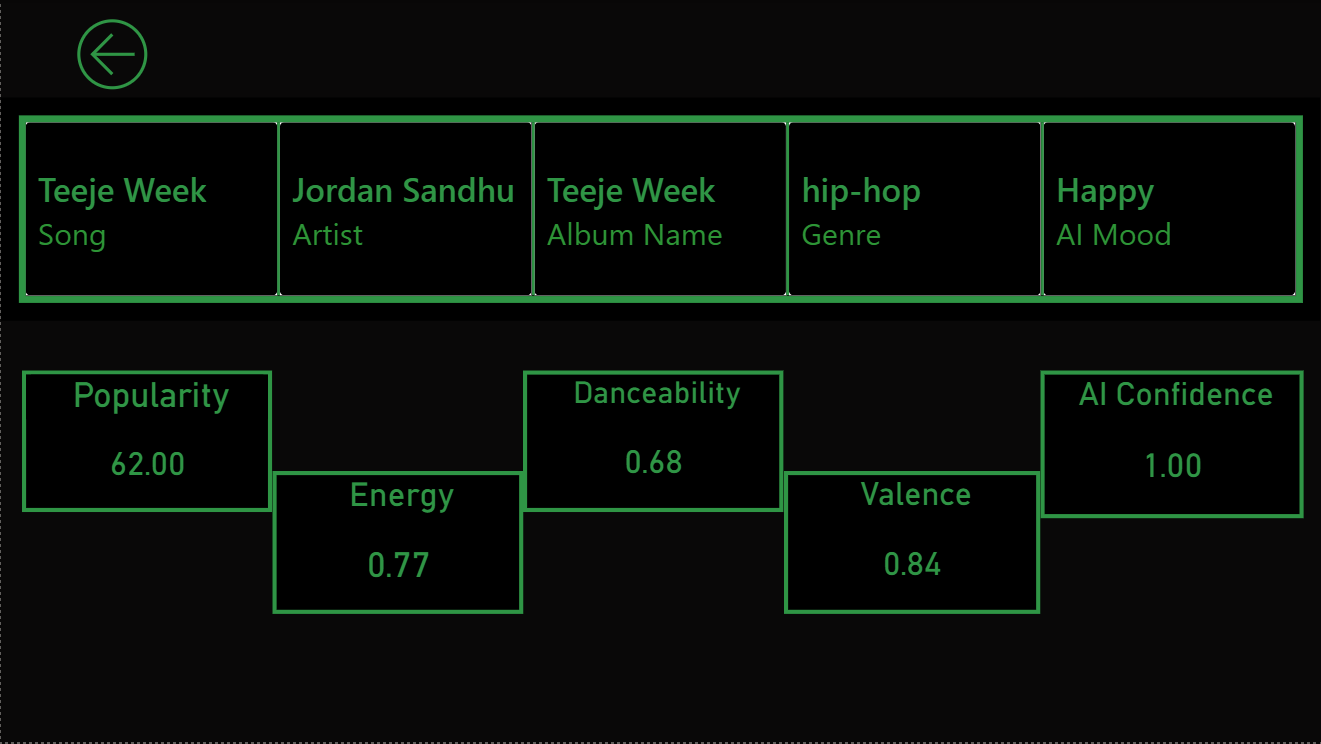

The dashboard page shown, as its layout file describes it:
{"tool":"powerbi","page":{"name":"Song Details","canvas":[1280,720],"ordinal":4},"visuals":[{"type":"cardVisual","fields":{"Data":["Min(spotify_mood_prediction.track_name)","Min(spotify_mood_prediction.artists)","Min(spotify_mood_prediction.album_name)","Min(spotify_mood_prediction.track_genre)","Min(spotify_mood_prediction.predicted_mood)"]},"box":[0,95,1280,216.7],"z":1000},{"type":"card","title":"Popularity","fields":{"Values":["Avg(spotify_mood_prediction.popularity)"]},"box":[21,359.5,242.9,137.6],"z":2000},{"type":"card","title":"Energy","fields":{"Values":["Avg(spotify_mood_prediction.energy)"]},"box":[263.3,456.7,243.3,138.3],"z":3000},{"type":"card","title":"Danceability","fields":{"Values":["Avg(spotify_mood_prediction.danceability)"]},"box":[506.8,359.5,252.6,137.6],"z":4000},{"type":"card","title":"Valence","fields":{"Values":["Avg(spotify_mood_prediction.valence)"]},"box":[760,456.7,248.3,138.3],"z":5000},{"type":"card","title":"AI Confidence","fields":{"Values":["Avg(spotify_mood_prediction.prediction_confidence)"]},"box":[1008.3,360,255,143.3],"z":6000},{"type":"actionButton","box":[65,10,100,85],"z":7000}]}

Visuals, with their boxes in screenshot pixels (x1, y1, x2, y2), scaled from the page's 1280x720 canvas onto the 1321x744 screenshot:
cardVisual - Min(spotify_mood_prediction.track_name) x Min(spotify_mood_prediction.artists): region(0, 98, 1320, 322)
"Popularity" card: region(22, 371, 272, 514)
"Energy" card: region(272, 472, 523, 615)
"Danceability" card: region(523, 371, 784, 514)
"Valence" card: region(784, 472, 1041, 615)
"AI Confidence" card: region(1041, 372, 1304, 520)
actionButton: region(67, 10, 170, 98)
